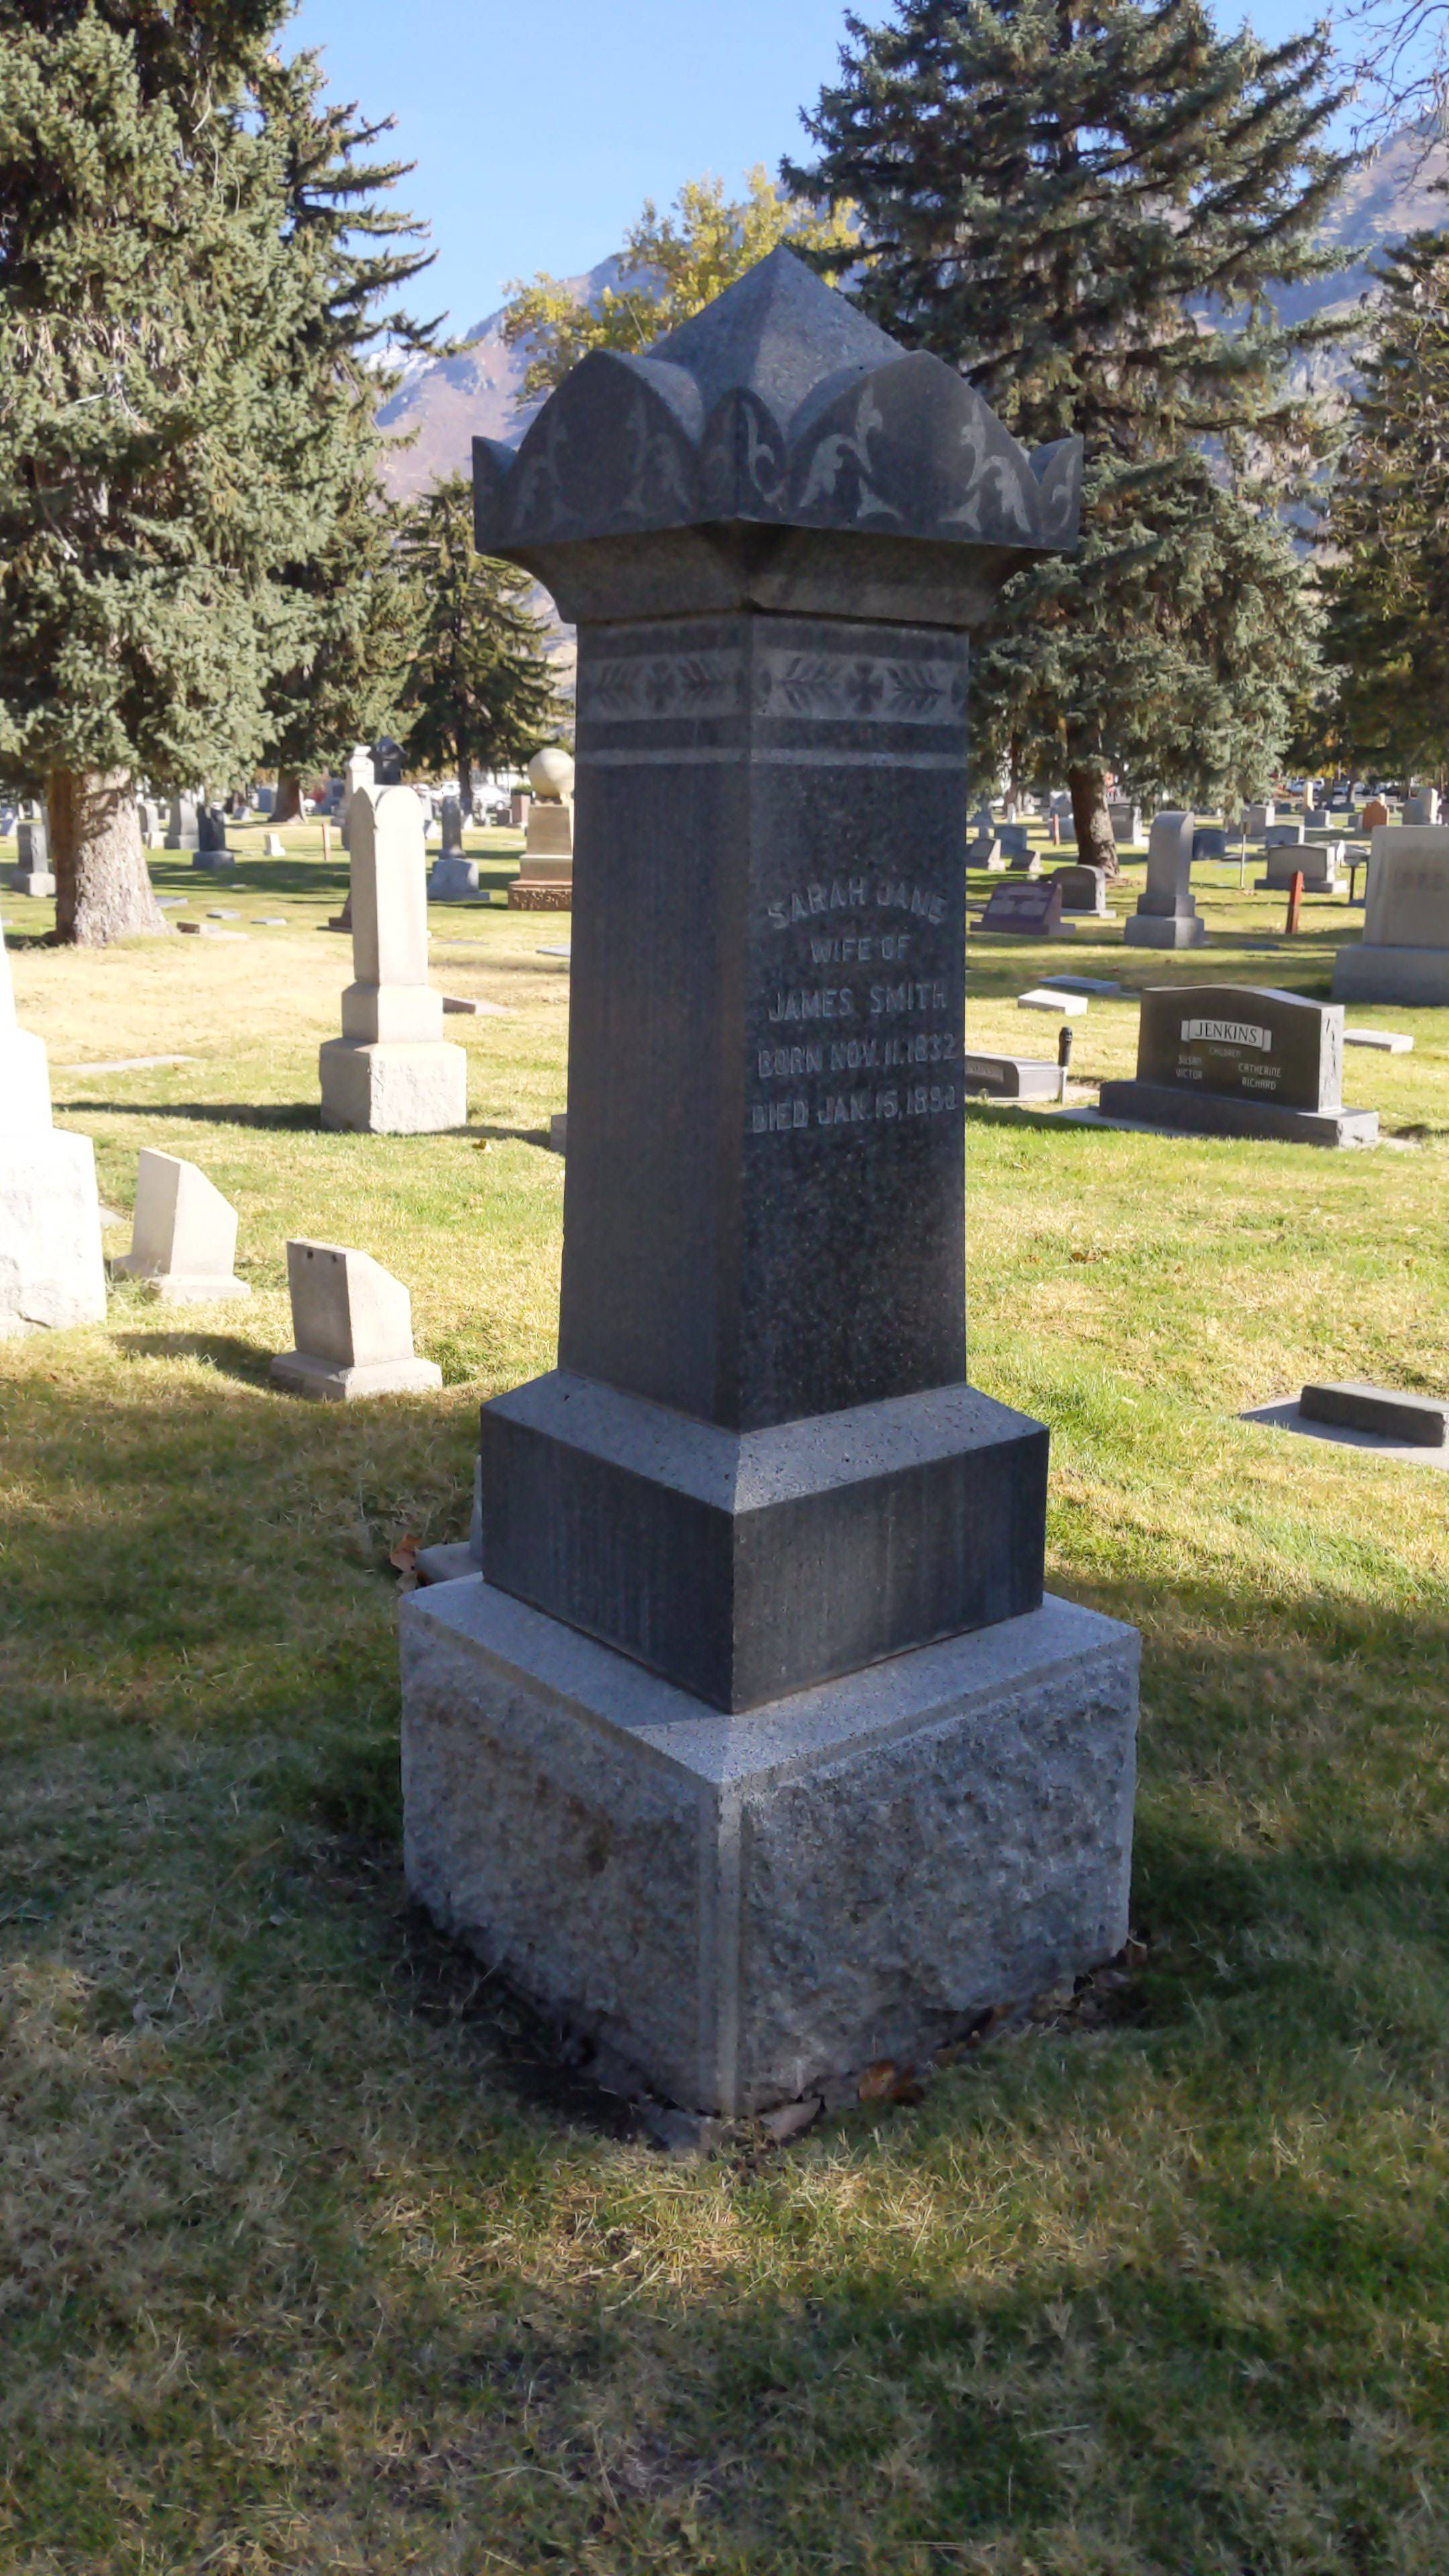obelisk: (472, 235, 1053, 1714)
